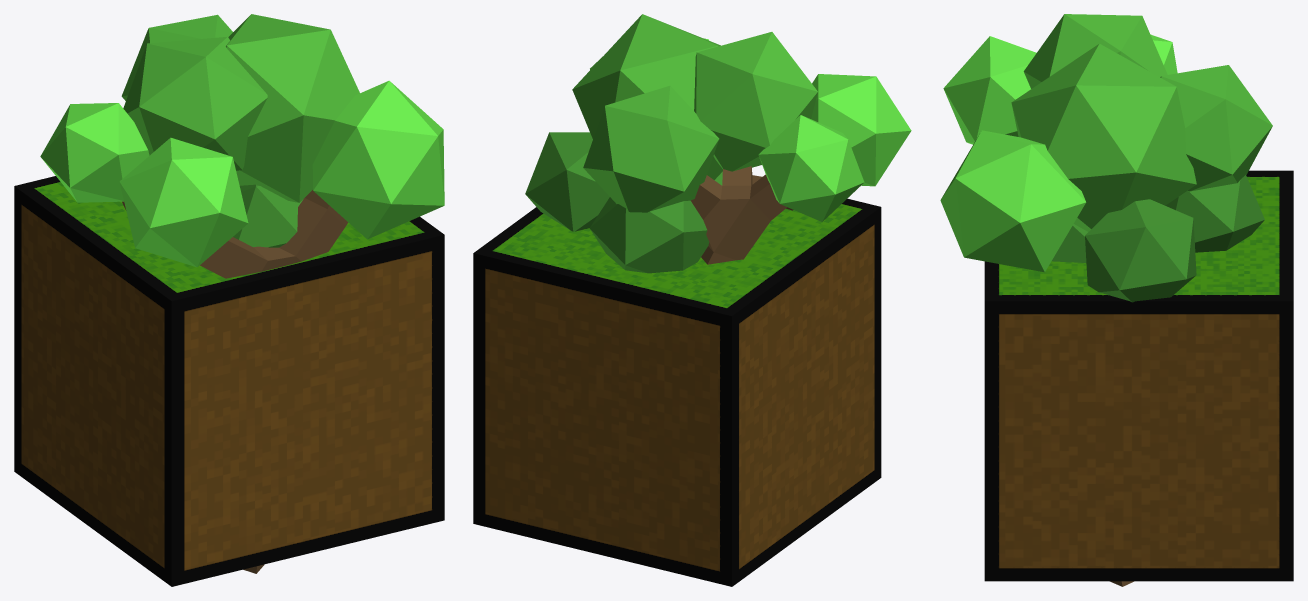
File: BushBig1.glb
3 renders of one model, left to right at view 1: azimuth 30°, elevation 25°; view 2: azimuth 150°, elevation 25°; view 3: azimuth 270°, elevation 25°, orthographic. The views are drawn at different scales.
Visible parts, largest first — view 1: Grass_v2Baked, Icosphere.029, Icosphere.022, Icosphere.023, Icosphere.024, Icosphere.021, Tree medium, Icosphere.001, Icosphere.026; view 2: Grass_v2Baked, Icosphere.026, Icosphere.023, Icosphere.029, Icosphere.021, Icosphere.002, Icosphere.024, Tree medium, Icosphere.027; view 3: Grass_v2Baked, Icosphere.029, Icosphere.022, Icosphere.027, Icosphere.026, Icosphere.024, Icosphere.023, Icosphere.002, Icosphere.001, Icosphere.021.
Part boxes in pixels (<box>): Grass_v2Baked: <box>14,176,444,586</box>; Icosphere.029: <box>226,14,359,202</box>; Icosphere.022: <box>312,80,444,239</box>; Icosphere.023: <box>123,36,267,170</box>; Icosphere.024: <box>119,137,248,267</box>; Icosphere.021: <box>40,103,149,202</box>; Tree medium: <box>122,190,347,573</box>; Icosphere.001: <box>233,184,303,247</box>; Icosphere.026: <box>121,14,232,100</box>; Grass_v2Baked: <box>473,198,881,586</box>; Icosphere.026: <box>583,86,719,212</box>; Icosphere.023: <box>694,32,817,171</box>; Icosphere.029: <box>572,14,722,179</box>; Icosphere.021: <box>758,115,864,221</box>; Icosphere.002: <box>589,197,709,273</box>; Icosphere.024: <box>811,74,911,186</box>; Tree medium: <box>691,166,793,264</box>; Icosphere.027: <box>525,132,609,231</box>; Grass_v2Baked: <box>984,170,1293,581</box>; Icosphere.029: <box>1011,43,1196,231</box>; Icosphere.022: <box>940,130,1086,272</box>; Icosphere.027: <box>1085,199,1196,302</box>; Icosphere.026: <box>1160,65,1272,191</box>; Icosphere.024: <box>943,36,1036,144</box>; Icosphere.023: <box>1023,14,1167,88</box>; Icosphere.002: <box>1165,175,1264,252</box>; Icosphere.001: <box>1052,224,1087,262</box>; Icosphere.021: <box>1150,34,1177,74</box>.
Size of the model in its own units: 1.19 by 1.84 by 1.12.
6 materials, 1 textured.
